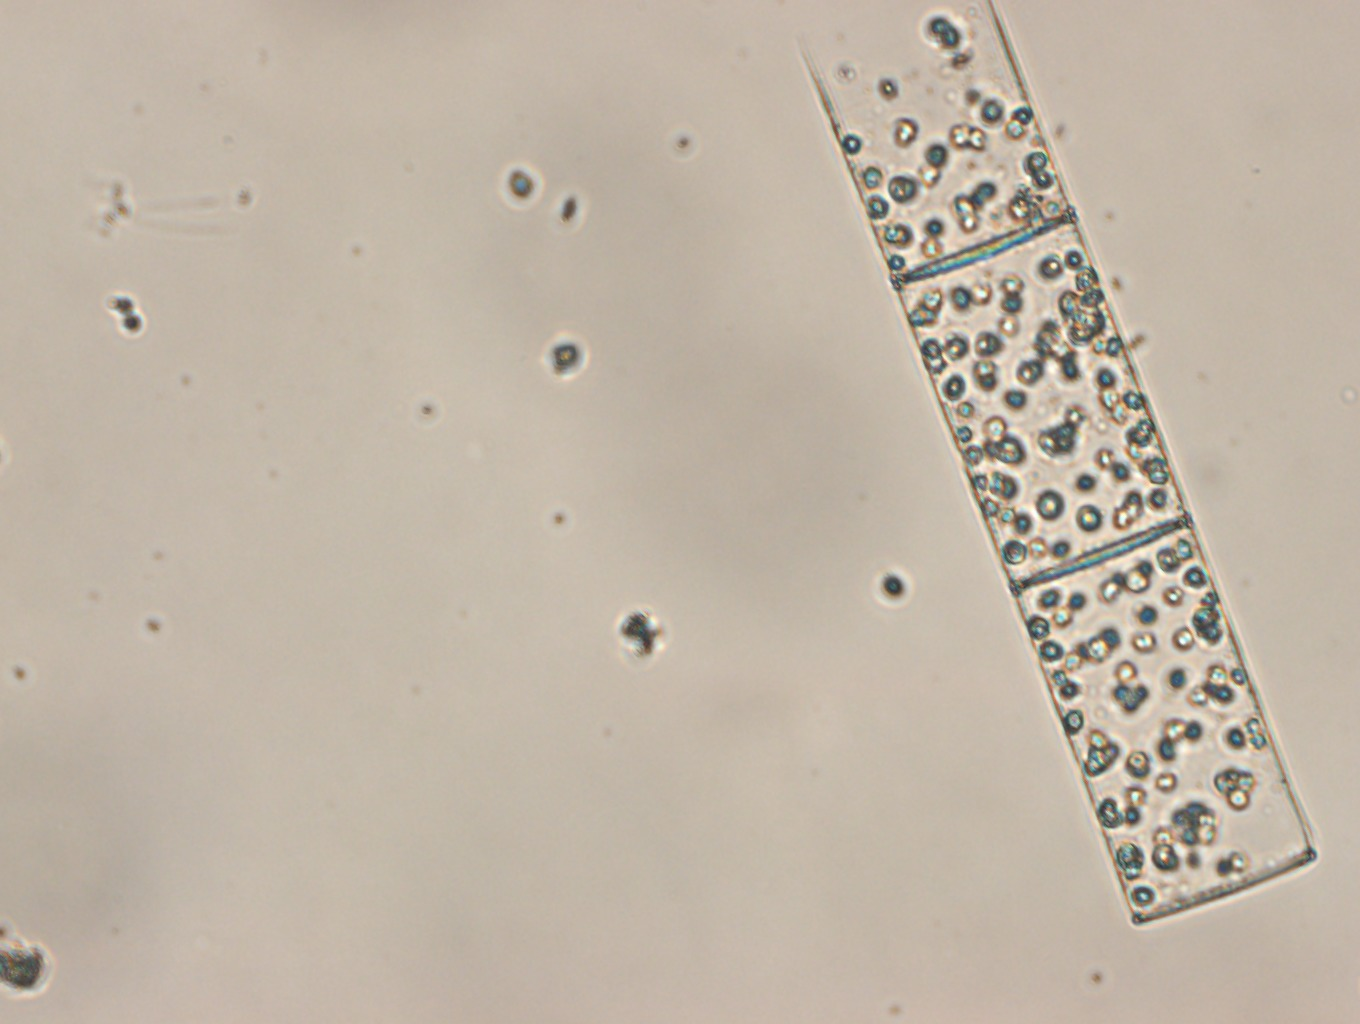guinardia flaccida: (794, 1, 1319, 927)
